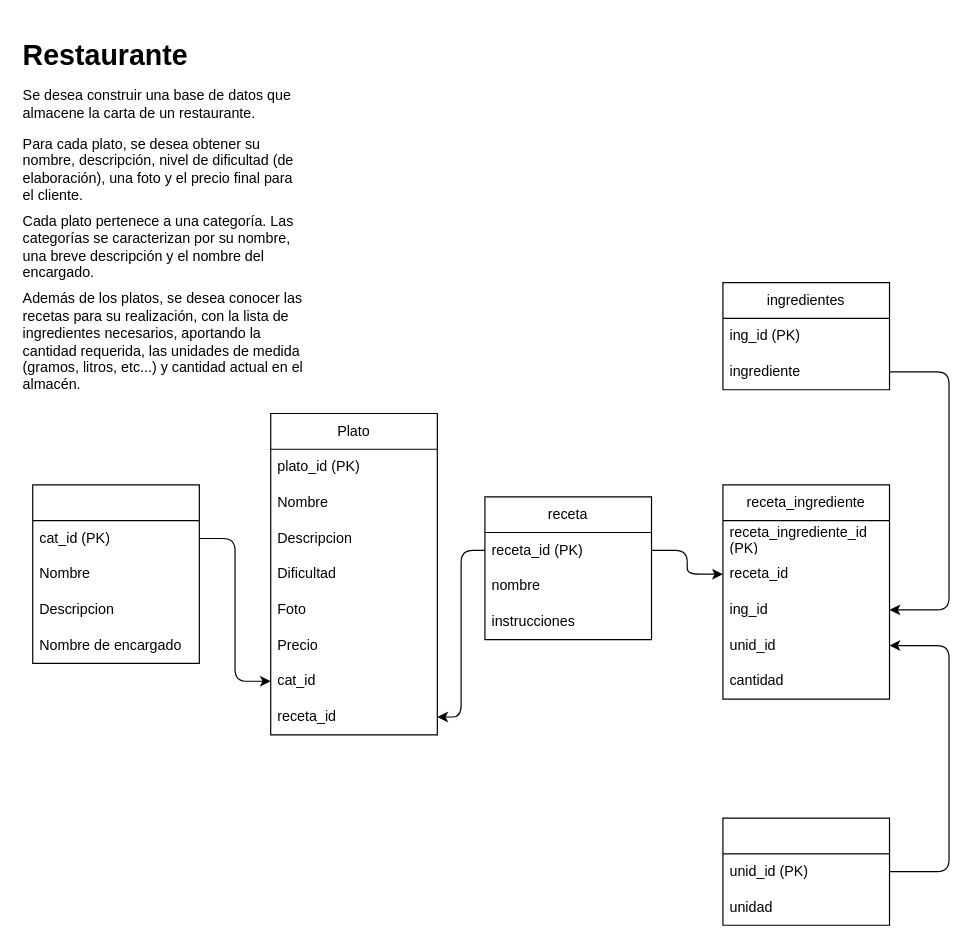
The diagram is 979 pixels wide and 946 high, and some of its shapes have lost their labels. The shapes that lost their labels are listed below. From the top down, each one's box as (x1, y1, x2, y2) in pixels, then its label:
(32, 484, 199, 663): Categoria
(722, 817, 890, 925): unidades
